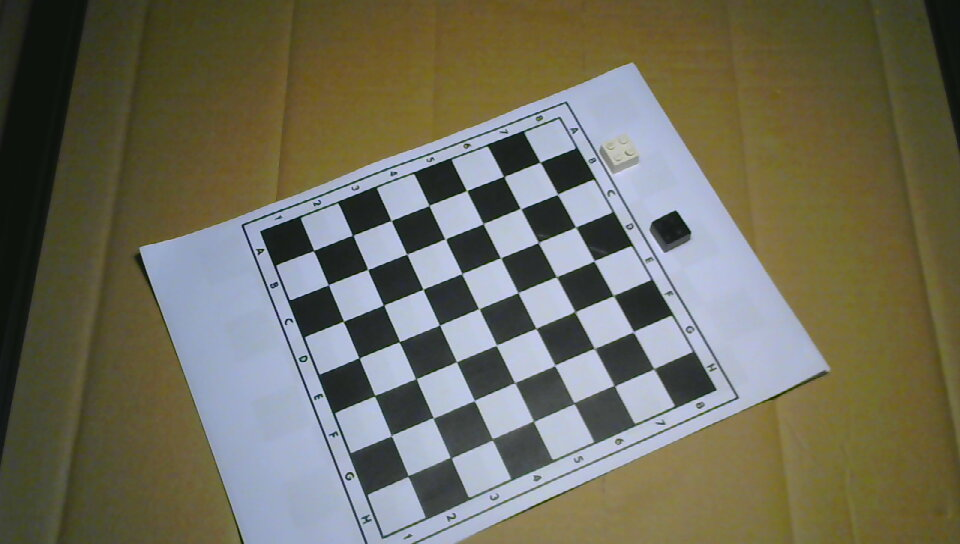bp: (651, 210, 692, 252)
wp: (599, 133, 641, 174)
